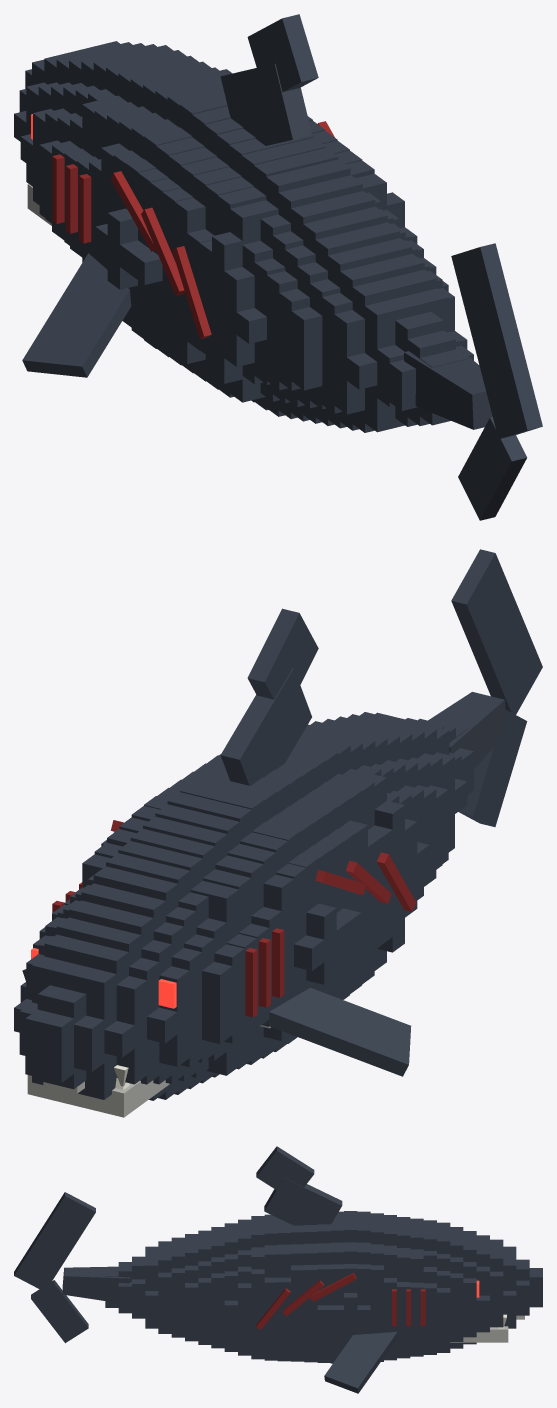
File: WreckShark.glb
3 views of the same model, one above another, from view 1: azimuth 30°, elevation 25°; view 2: azimuth 150°, elevation 25°; view 3: azimuth 270°, elevation 25° (orthographic). The views are drawn at different scales.
Visible parts, largest first — view 1: WreckShark_Body, WreckShark_TailFin, WreckShark_Accent, WreckShark_Tail; view 2: WreckShark_Body, WreckShark_TailFin, WreckShark_Accent, WreckShark_Tail, WreckShark_Jaw; view 3: WreckShark_Body, WreckShark_TailFin, WreckShark_Tail, WreckShark_Accent, WreckShark_Jaw.
Boxes of the visible parts, <box> form: WreckShark_Body: <box>14,14,473,432</box>; WreckShark_TailFin: <box>451,243,542,520</box>; WreckShark_Accent: <box>52,121,334,338</box>; WreckShark_Tail: <box>404,346,492,429</box>; WreckShark_Body: <box>14,608,473,1100</box>; WreckShark_TailFin: <box>451,549,542,826</box>; WreckShark_Accent: <box>52,820,416,1017</box>; WreckShark_Tail: <box>428,692,506,769</box>; WreckShark_Jaw: <box>27,1075,169,1117</box>; WreckShark_Body: <box>105,1146,542,1393</box>; WreckShark_TailFin: <box>14,1192,95,1343</box>; WreckShark_Tail: <box>62,1266,130,1302</box>; WreckShark_Accent: <box>256,1272,425,1329</box>; WreckShark_Jaw: <box>450,1326,508,1342</box>.
Size of the model in its own units: 2 by 1.9 by 4.41.
